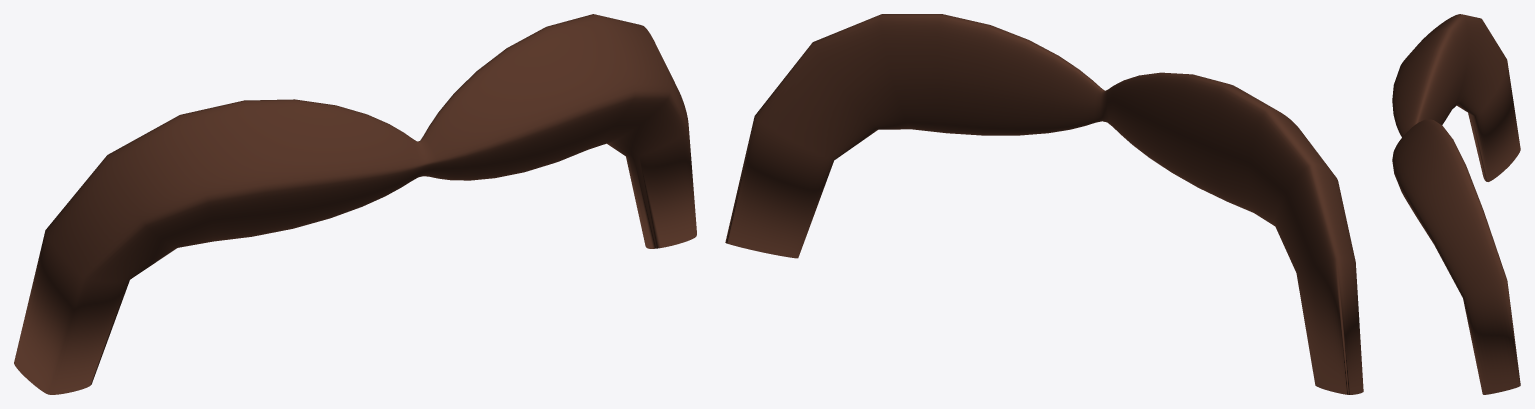
The model's file is beardMustacheHogan.glb.
The picture shows the model from 3 angles, left to right: view 1: azimuth 30°, elevation 25°; view 2: azimuth 150°, elevation 25°; view 3: azimuth 270°, elevation 25°; orthographic projection. The views are drawn at different scales.
Visible parts, largest first — view 1: beardMustacheHogan; view 2: beardMustacheHogan; view 3: beardMustacheHogan.
Part boxes in pixels (x1,y1,x2,y2): beardMustacheHogan: (14,14,696,394); beardMustacheHogan: (725,14,1363,394); beardMustacheHogan: (1392,14,1520,394).
Bounding box in the file's own units: 0.2332 × 0.0904 × 0.053.
